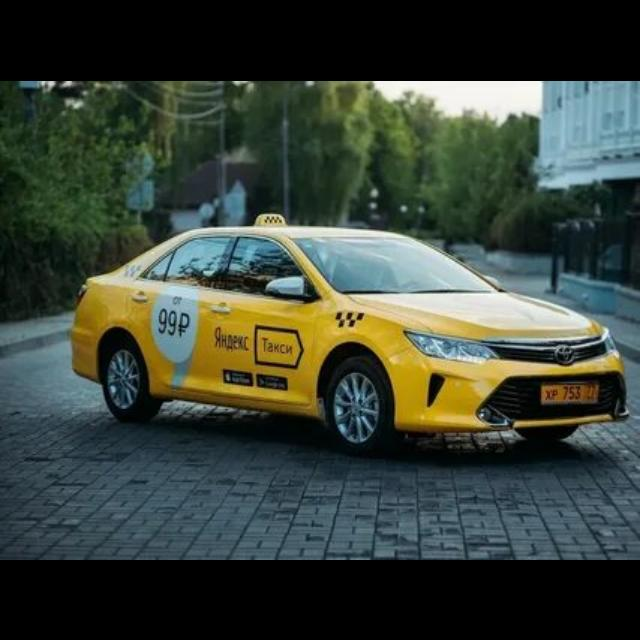taxi: (70, 212, 630, 457)
